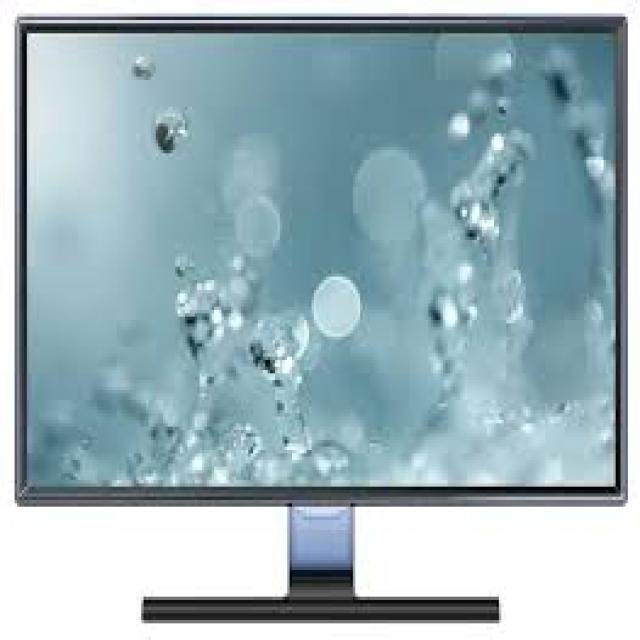monitor: (10, 9, 631, 622)
